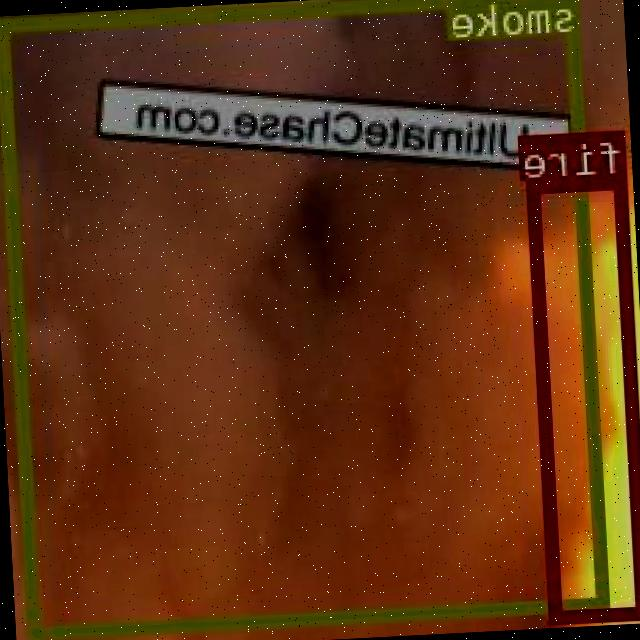fire: (531, 173, 640, 620)
smoke: (0, 0, 611, 636)
